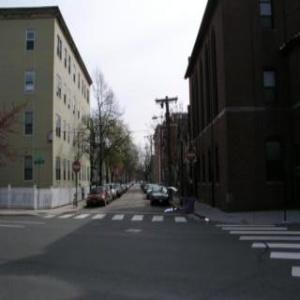drone: (157, 181, 213, 237)
